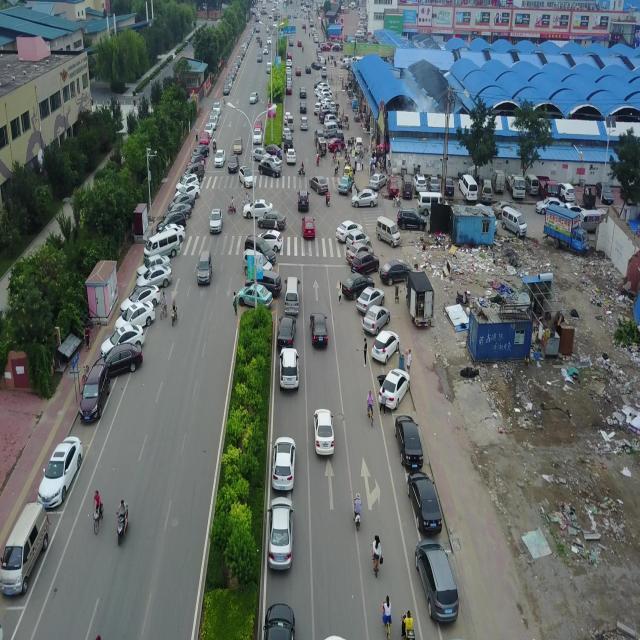bike: (93, 501, 103, 535), (354, 512, 361, 530)
car: (37, 436, 83, 509), (267, 496, 294, 571), (262, 603, 295, 639), (313, 408, 334, 456)
person: (371, 535, 382, 577), (382, 595, 392, 639), (116, 500, 126, 535), (353, 493, 362, 529), (366, 390, 374, 426), (93, 490, 101, 518), (84, 326, 90, 351), (406, 348, 412, 373), (232, 291, 238, 315), (363, 337, 367, 366)
tree: (456, 94, 499, 180), (509, 97, 553, 177), (607, 126, 640, 214)
